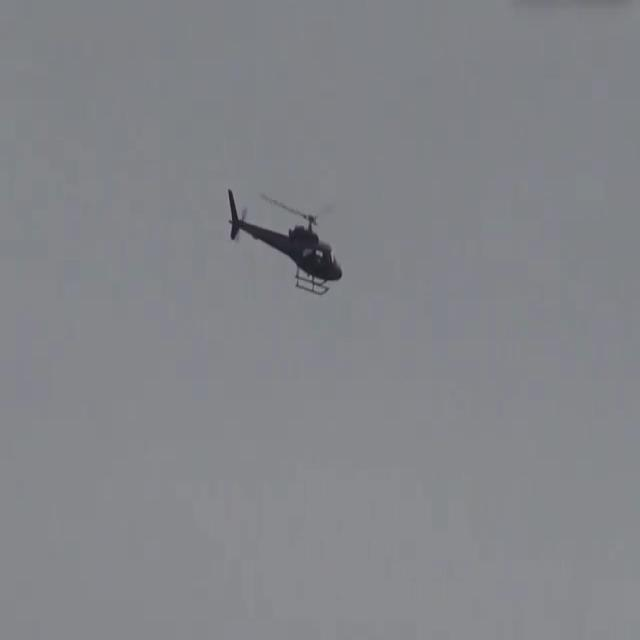Helicopter: (226, 171, 344, 323)
